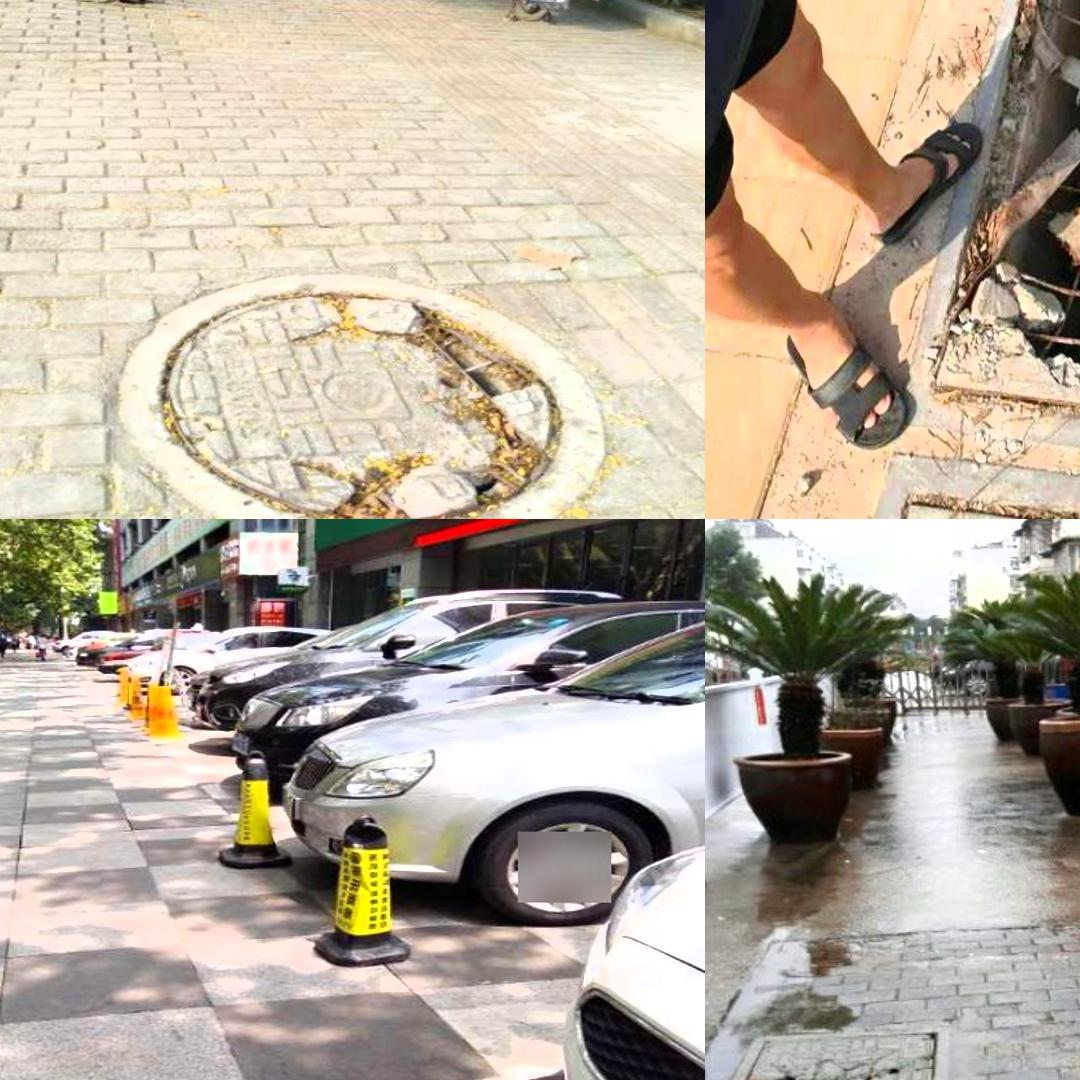broke: (116, 273, 607, 519), (914, 0, 1080, 458), (709, 1026, 947, 1080)
